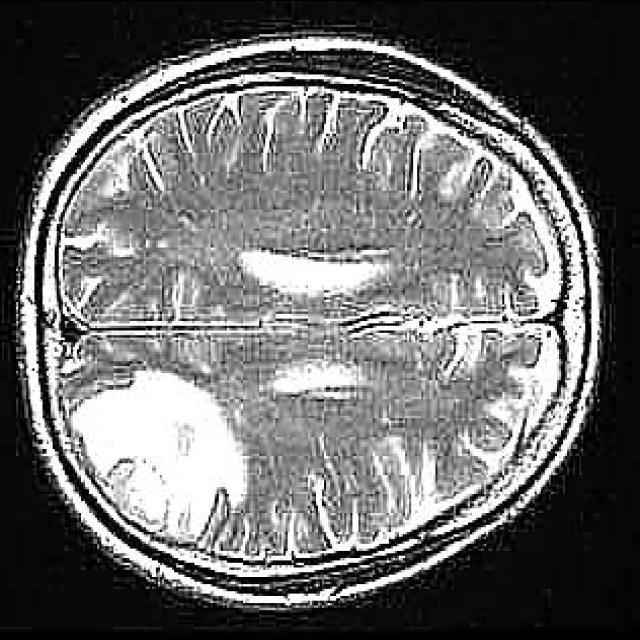tumor: (57, 351, 249, 548)
